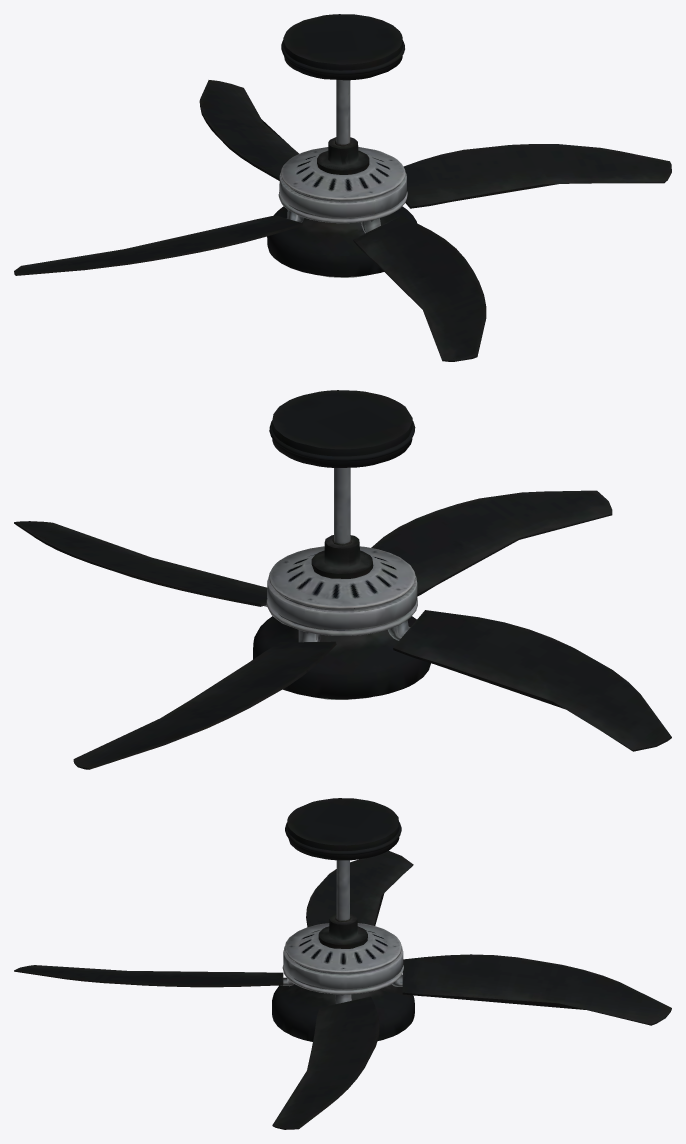
File: ceiling_fan.glb
3 views of the same model, one above another, from view 1: azimuth 30°, elevation 25°; view 2: azimuth 150°, elevation 25°; view 3: azimuth 270°, elevation 25° (orthographic). The views are drawn at different scales.
Visible parts, largest first — view 1: ceiling_fan, ceiling_fan_lo; view 2: ceiling_fan, ceiling_fan_lo; view 3: ceiling_fan, ceiling_fan_lo.
Part boxes in pixels (left/top/right/bottom): ceiling_fan: left=14, top=14, right=671, bottom=361; ceiling_fan_lo: left=16, top=80, right=669, bottom=359; ceiling_fan: left=14, top=390, right=671, bottom=769; ceiling_fan_lo: left=14, top=458, right=671, bottom=769; ceiling_fan: left=14, top=798, right=671, bottom=1129; ceiling_fan_lo: left=14, top=851, right=671, bottom=1128.
Bounding box in the file's own units: 1.46 × 0.5163 × 1.46.
Materials: 1 (1 with a texture image).
